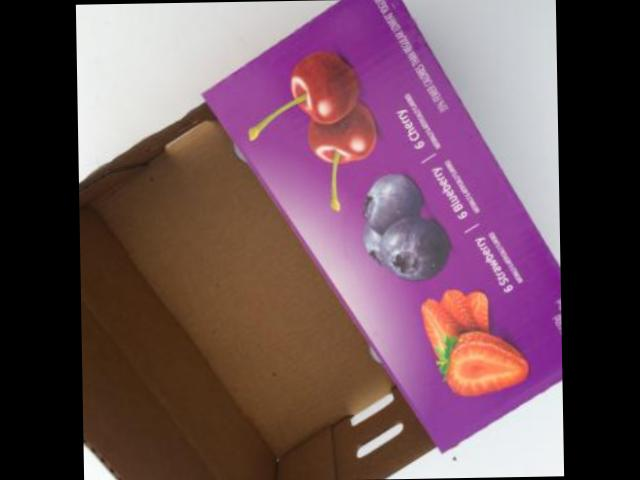cardboard paper: (79, 0, 562, 480)
